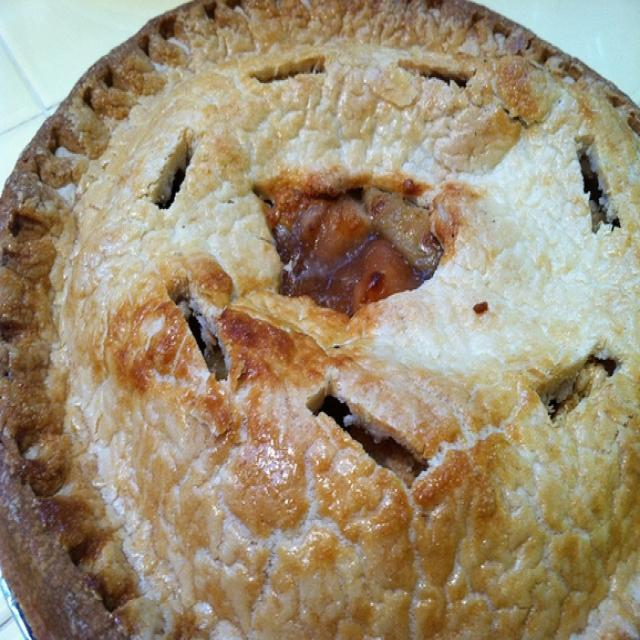Apple: (18, 7, 632, 639)
